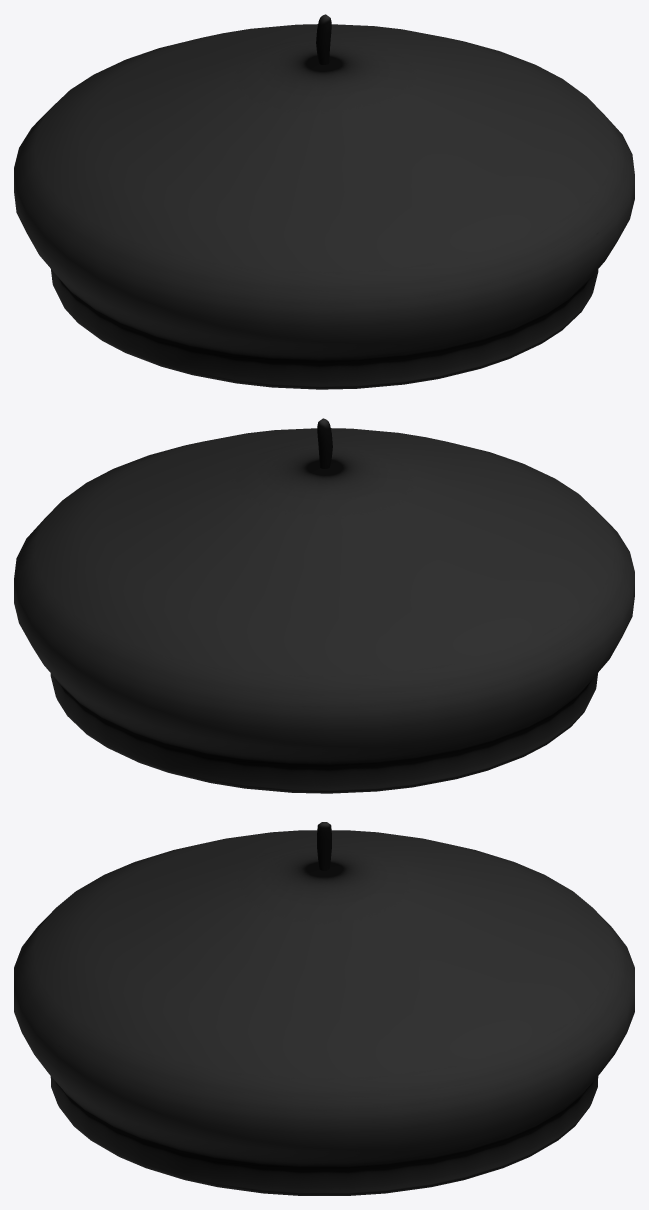
File: Beret.fbx
The picture shows the model from 3 angles, top to bottom: view 1: azimuth 30°, elevation 25°; view 2: azimuth 150°, elevation 25°; view 3: azimuth 270°, elevation 25°; orthographic projection.
Parts seen in each view (by area): view 1: Beret; view 2: Beret; view 3: Beret.
Part boxes in pixels (x1=…): Beret: x1=14, y1=14, x2=634, y2=389; Beret: x1=14, y1=418, x2=634, y2=793; Beret: x1=14, y1=822, x2=634, y2=1195.
Size of the model in its own units: 40.95 by 19 by 40.96.
